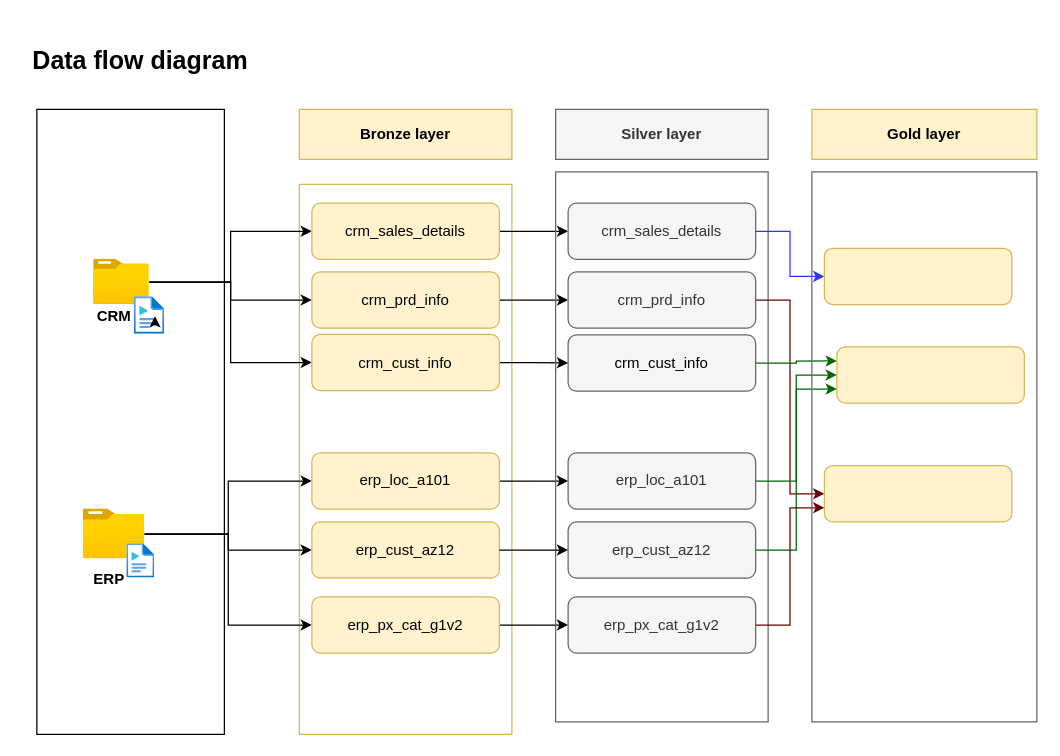
Image size: 1060x756. Some labels were removed from this diagram. Here are the shapes that lost their labels. From the top down, the centre of each, then its label:
At (x=917, y=275): "fact_sales".
At (x=930, y=374): "dim_customers".
At (x=917, y=493): "dim_products".
